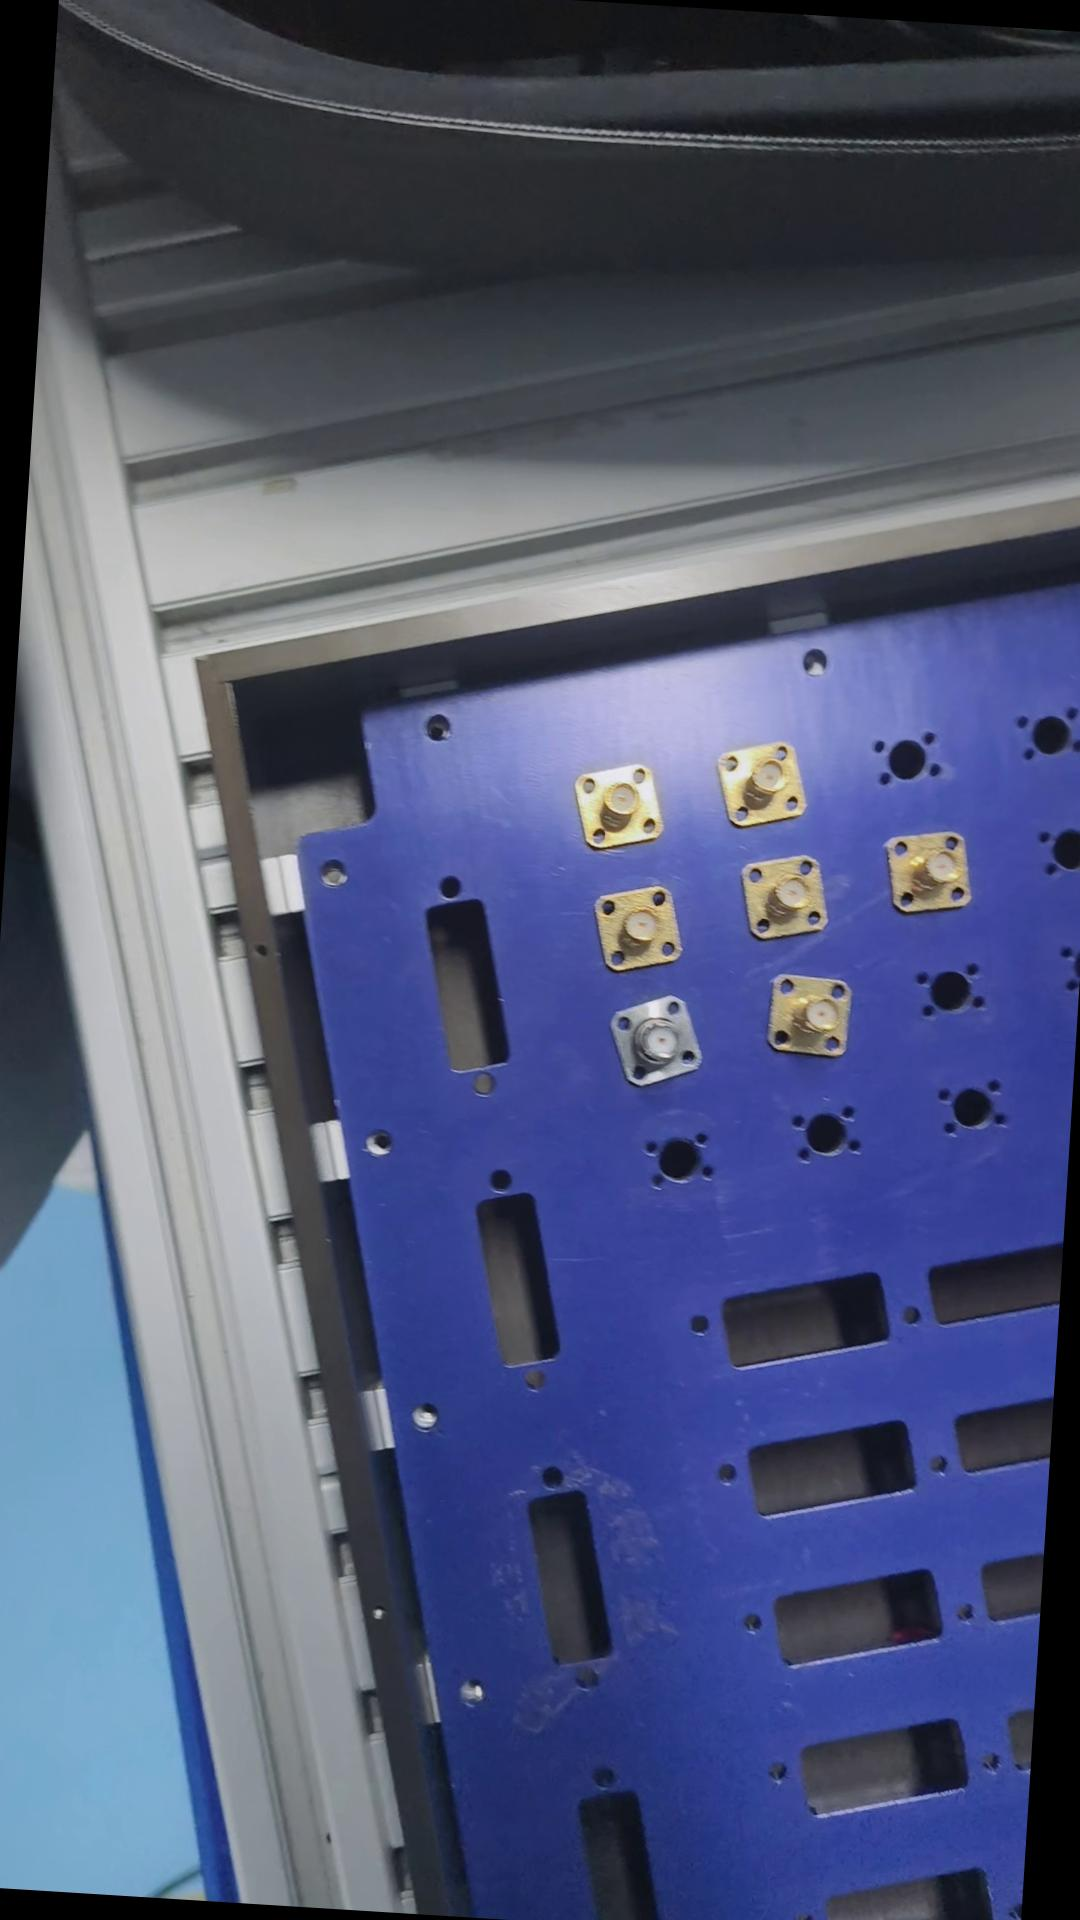SMA: (567, 760, 676, 856), (764, 964, 860, 1067), (607, 994, 705, 1092), (740, 848, 837, 945), (717, 736, 814, 832), (588, 885, 688, 977), (882, 827, 977, 916)
